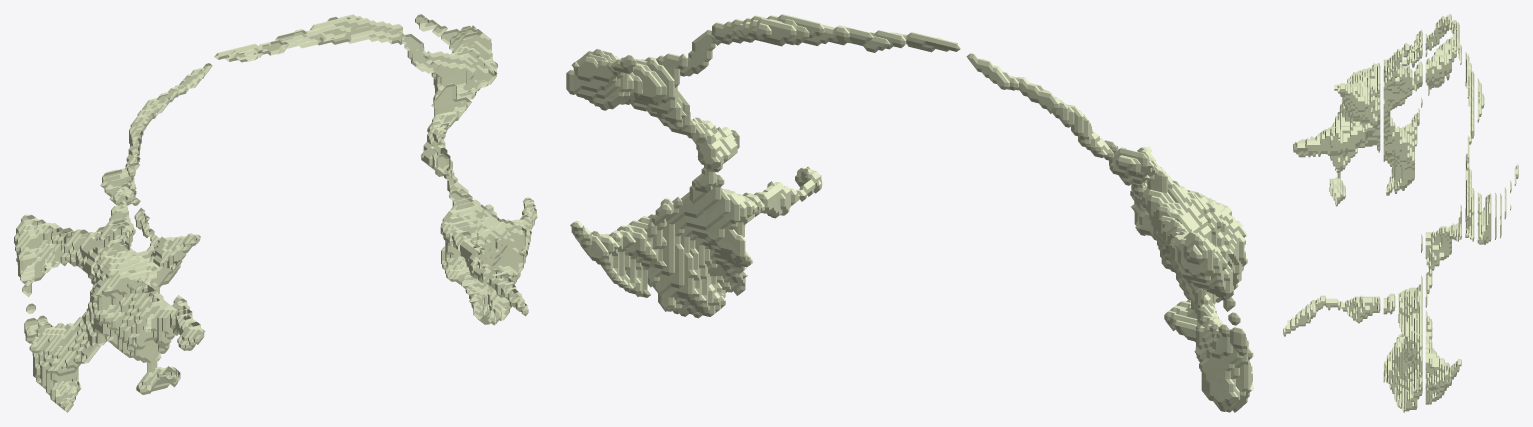
Rendered from SVV_RMDR.gltf.
3 renders of one model, left to right at view 1: azimuth 30°, elevation 25°; view 2: azimuth 150°, elevation 25°; view 3: azimuth 270°, elevation 25°, orthographic. The views are drawn at different scales.
Visible parts, largest first — view 1: RMDR; view 2: RMDR; view 3: RMDR.
Part boxes in pixels (x1,y1,x2,y2): RMDR: (14,14,537,412); RMDR: (566,14,1254,412); RMDR: (1283,14,1518,412).
Bounding box in the file's own units: 86060 × 47633 × 36618.
